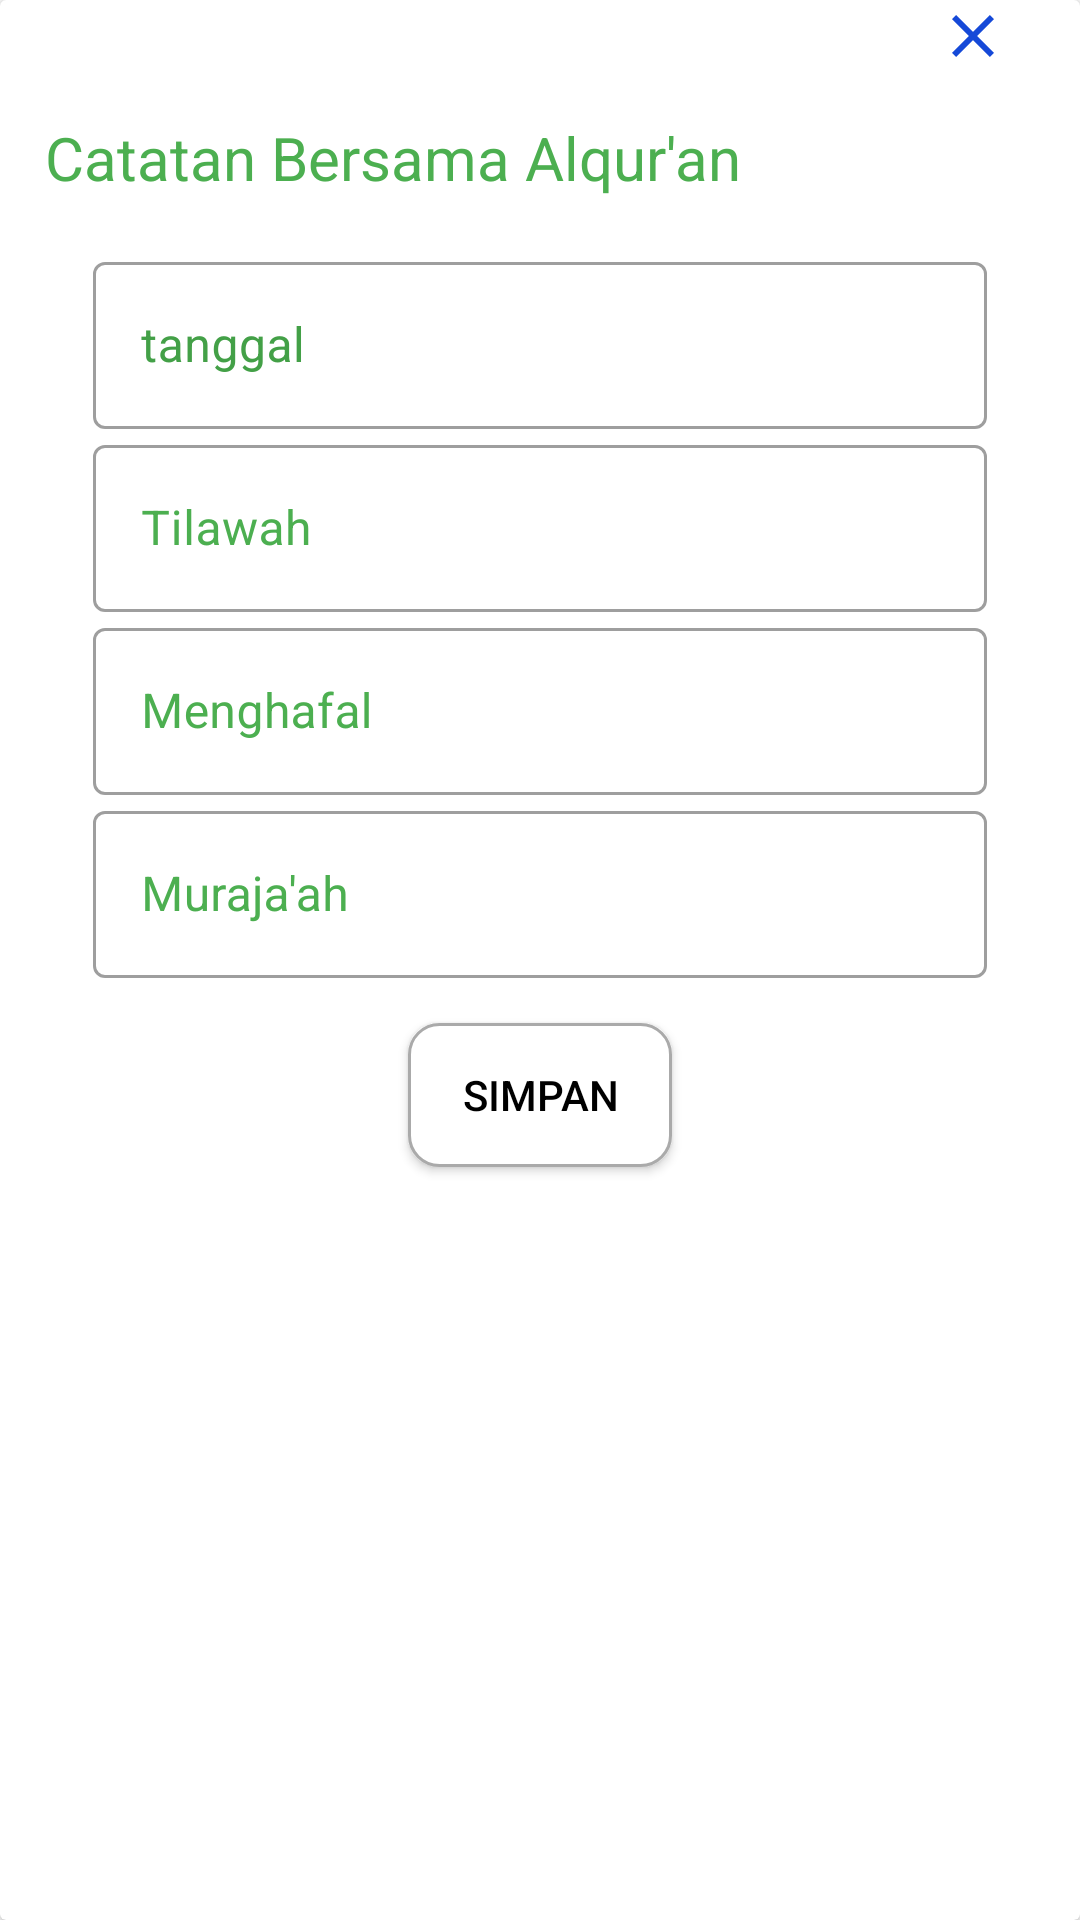

Screen size 1080px x 1920px. Icon name, then its center in pixels as [x,y]:
close: [973,36]
